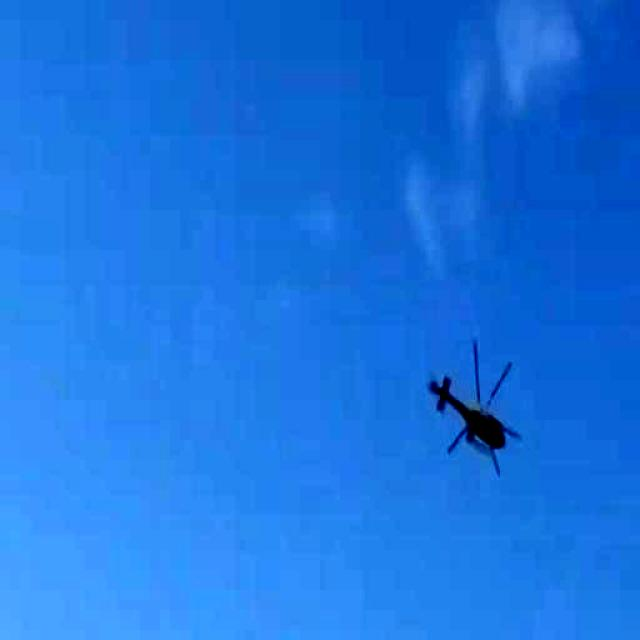drone: (414, 318, 548, 495)
